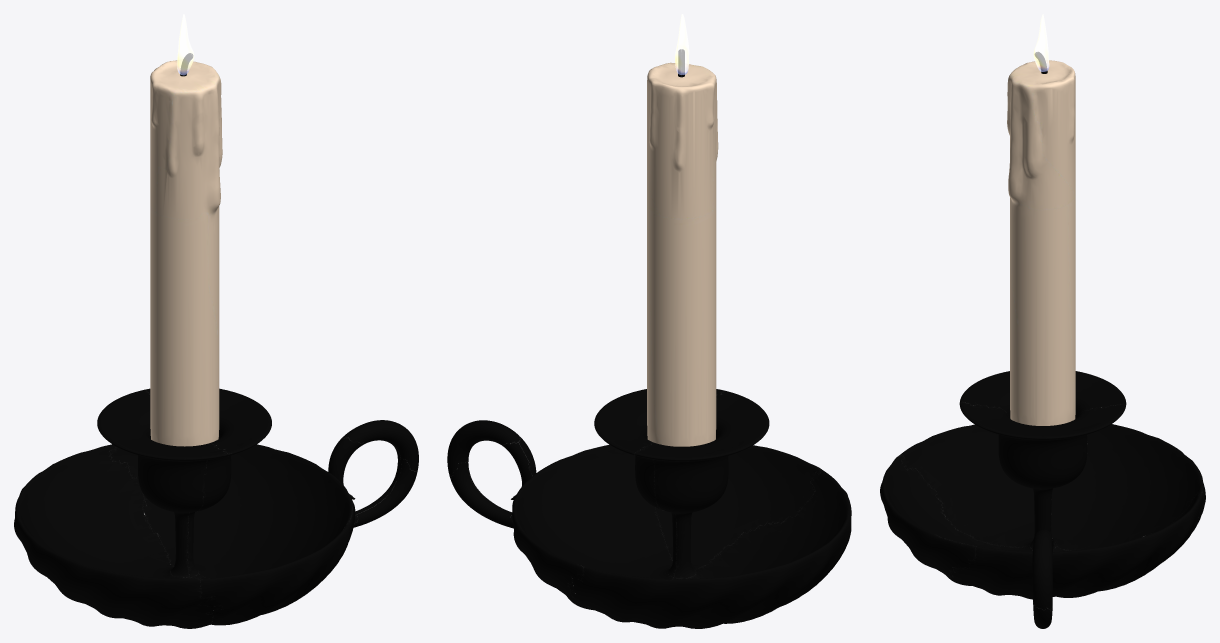
Rendered from simple_candle_in_candle_holder.glb.
3 renders of one model, left to right at view 1: azimuth 30°, elevation 25°; view 2: azimuth 150°, elevation 25°; view 3: azimuth 270°, elevation 25°, orthographic. The views are drawn at different scales.
Visible parts, largest first — view 1: Object_7, Object_3, Object_6, Object_4; view 2: Object_7, Object_3, Object_6, Object_4; view 3: Object_7, Object_3, Object_6, Object_4.
Boxes of the visible parts, x1,y1,x2,y2 form: Object_7: [14, 388, 355, 628]; Object_3: [150, 60, 222, 446]; Object_6: [328, 420, 418, 527]; Object_4: [177, 14, 194, 75]; Object_7: [512, 389, 851, 628]; Object_3: [647, 62, 718, 446]; Object_6: [447, 420, 536, 528]; Object_4: [675, 14, 689, 74]; Object_7: [880, 371, 1205, 599]; Object_3: [1007, 60, 1075, 425]; Object_6: [1032, 529, 1053, 628]; Object_4: [1033, 14, 1049, 71].
Size of the model in its own units: 1.14 by 1.67 by 0.8842.
Materials: 6 (5 with a texture image).
